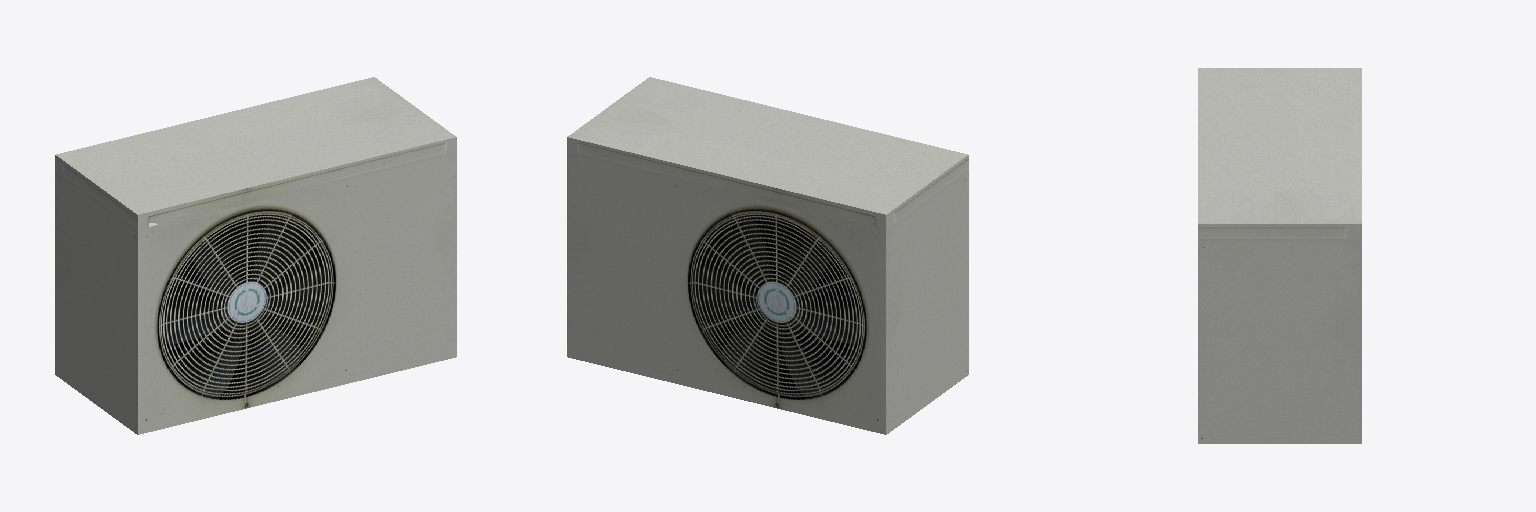
3 views of the same model, side by side, from view 1: azimuth 30°, elevation 25°; view 2: azimuth 150°, elevation 25°; view 3: azimuth 270°, elevation 25° (orthographic).
Parts seen in each view (by area): view 1: ventilator_1; view 2: ventilator_1; view 3: ventilator_1.
Boxes of the visible parts, x1=… form: ventilator_1: x1=55, y1=77, x2=456, y2=434; ventilator_1: x1=567, y1=77, x2=968, y2=434; ventilator_1: x1=1198, y1=68, x2=1361, y2=443.
Size of the model in its own units: 0.5245 by 0.3459 by 0.2342.
Materials: 1 (1 with a texture image).